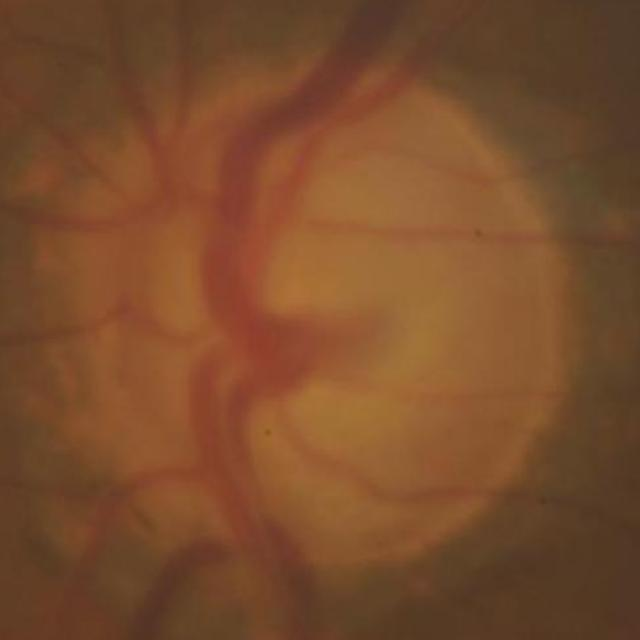OC: (154, 168, 456, 462)
OD: (28, 34, 581, 568)
